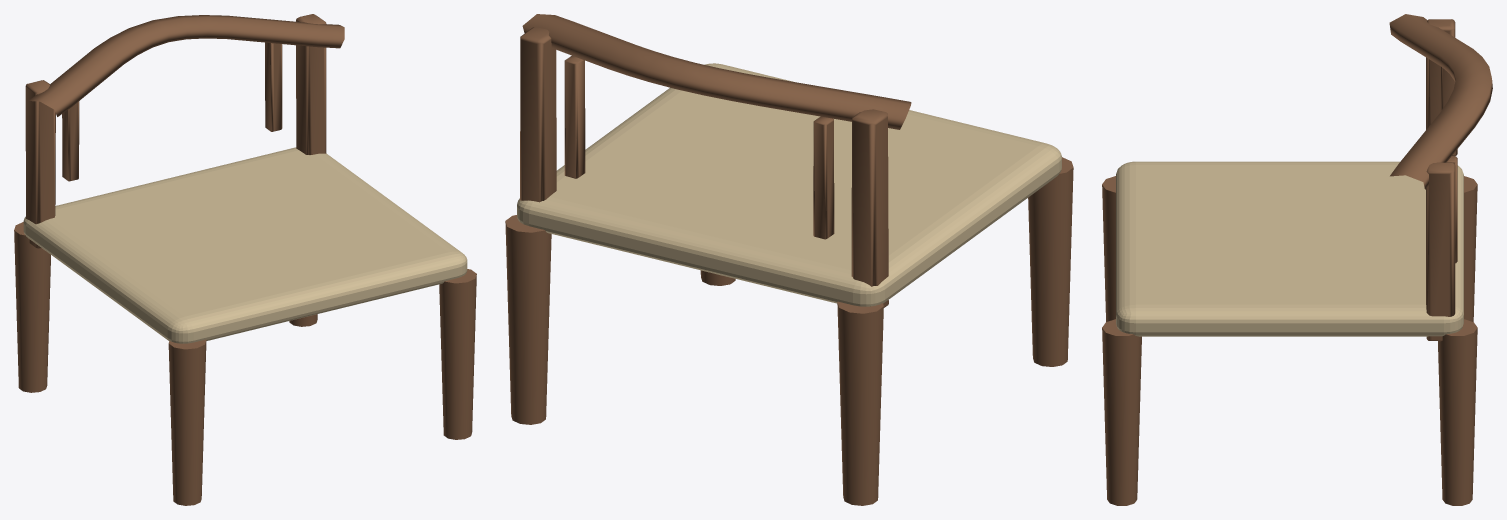
The model's file is chair-6-0.lod.glb.
3 views of the same model, side by side, from view 1: azimuth 30°, elevation 25°; view 2: azimuth 150°, elevation 25°; view 3: azimuth 270°, elevation 25° (orthographic). The views are drawn at different scales.
Visible parts, largest first — view 1: tailored-cushion, part; view 2: tailored-cushion, part; view 3: tailored-cushion, part.
Part boxes in pixels (bbox=[...]): tailored-cushion: bbox=[23, 147, 467, 343]; part: bbox=[14, 14, 476, 505]; tailored-cushion: bbox=[517, 63, 1061, 306]; part: bbox=[505, 14, 1073, 505]; tailored-cushion: bbox=[1116, 161, 1463, 336]; part: bbox=[1102, 14, 1492, 505].
Size of the model in its own units: 1 by 1 by 1.
